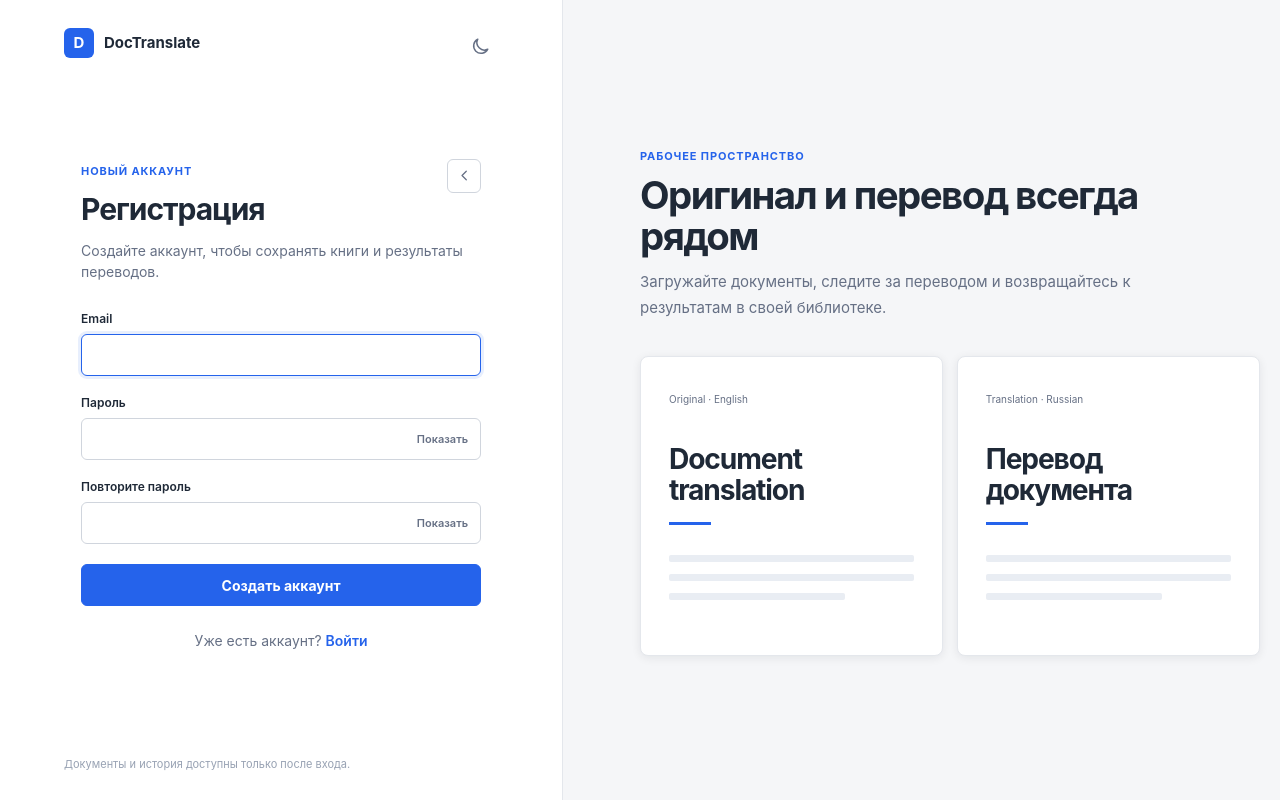
Test: authentication flow › returns from registration to login with the header arrow
The width and height of the screenshot is (1280, 800).
Click the link named "Вернуться ко входу".
click(464, 176)  # box [447,158,481,192]
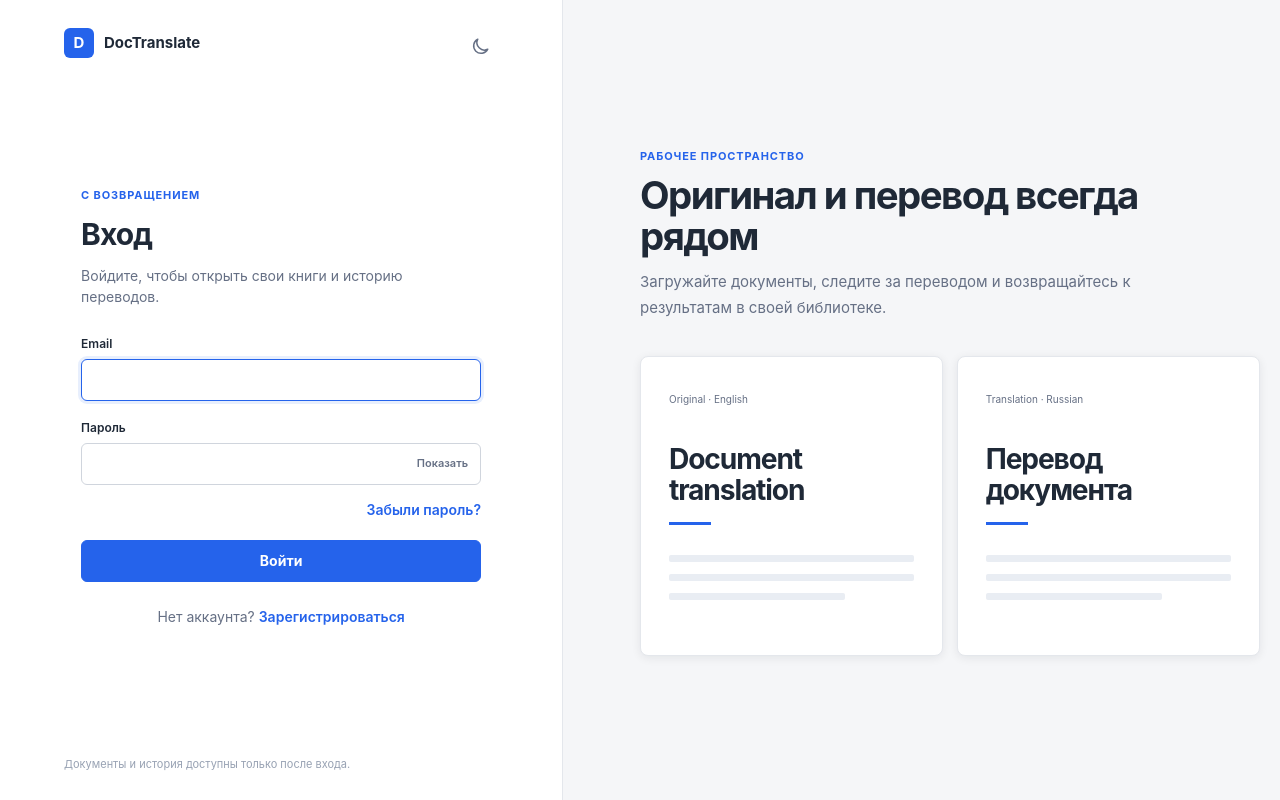
Now the heading "Вход" is shown, box [81,216,152,252]
